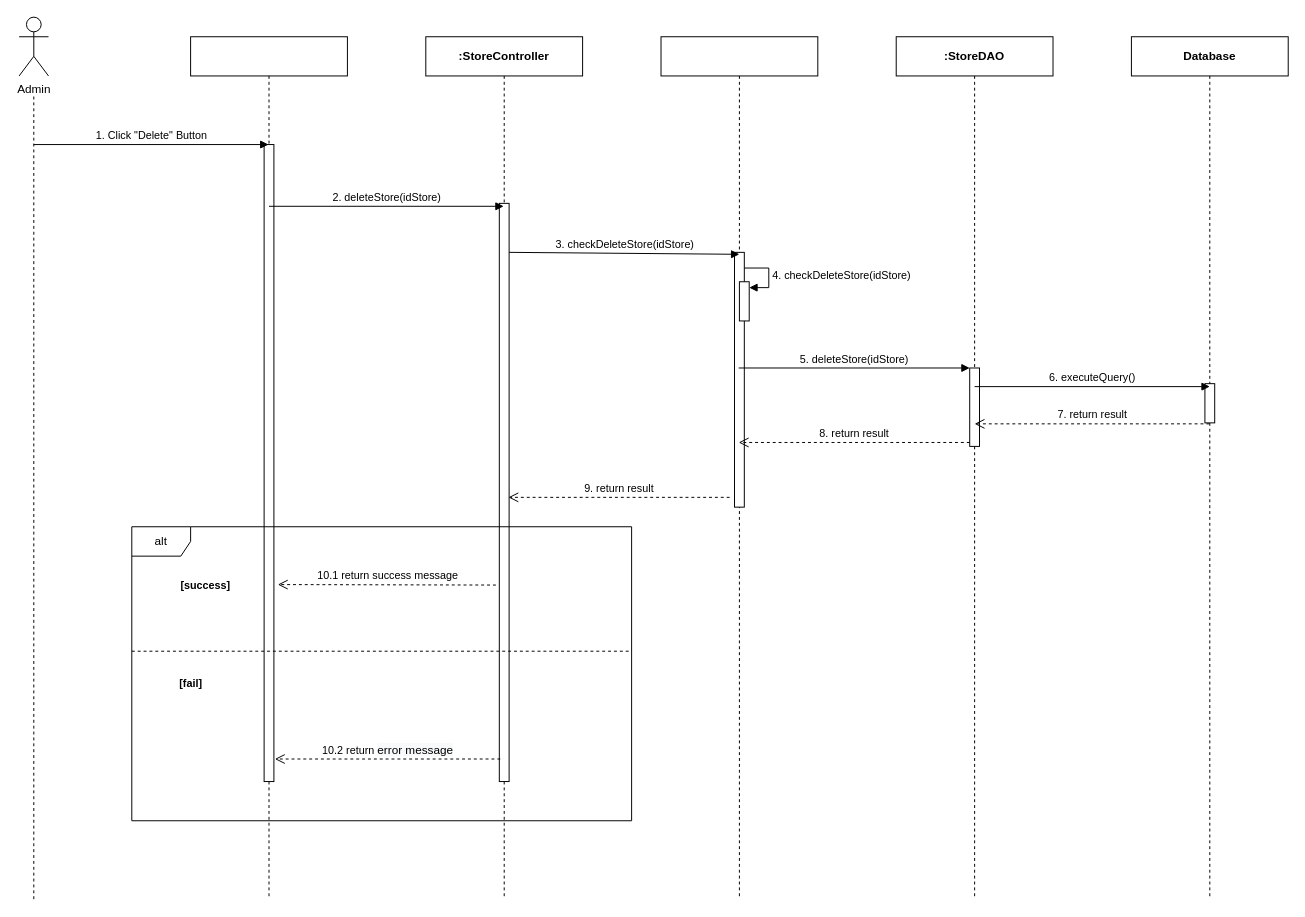
This 1305x917 diagram has some shape labels left out. Here are the shapes that lost their labels. From the top down, the box of each, then its label:
(190, 36, 347, 899): Browser
(660, 36, 818, 899): :StoreService
